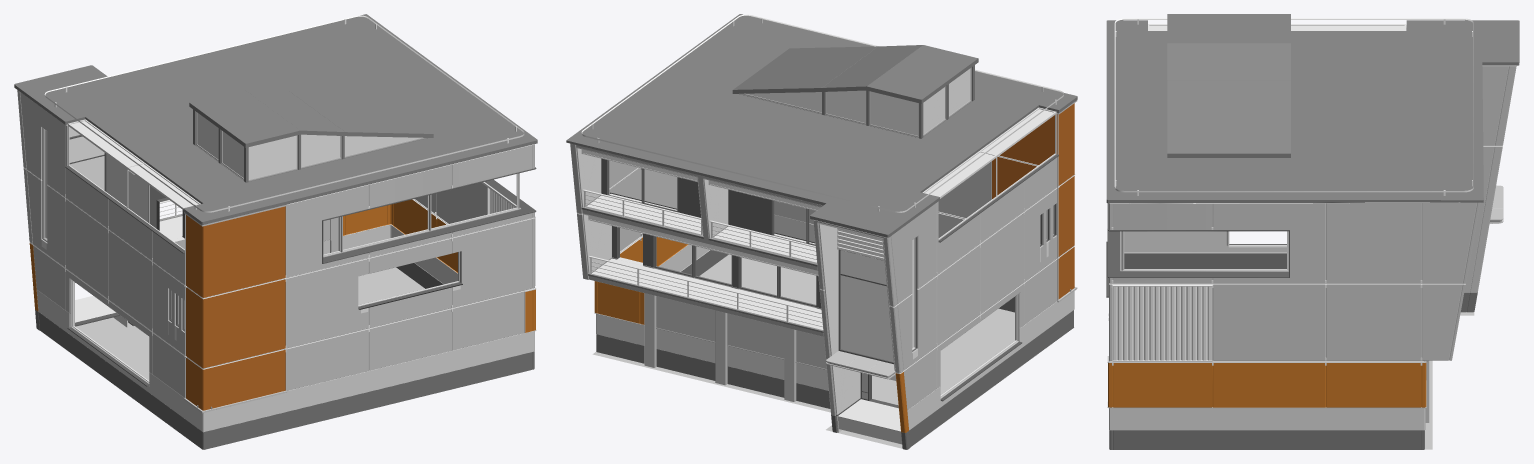
3 views of the same model, side by side, from view 1: azimuth 30°, elevation 25°; view 2: azimuth 150°, elevation 25°; view 3: azimuth 270°, elevation 25° (orthographic). The views are drawn at different scales.
Visible parts, largest first — view 1: SM_H_Building_FutureTech_Dormitory_02_ExterWall_01F; view 2: SM_H_Building_FutureTech_Dormitory_02_ExterWall_01F; view 3: SM_H_Building_FutureTech_Dormitory_02_ExterWall_01F.
Part boxes in pixels (left/top/right/bottom): SM_H_Building_FutureTech_Dormitory_02_ExterWall_01F: left=14, top=14, right=537, bottom=449; SM_H_Building_FutureTech_Dormitory_02_ExterWall_01F: left=566, top=14, right=1077, bottom=449; SM_H_Building_FutureTech_Dormitory_02_ExterWall_01F: left=1106, top=14, right=1519, bottom=449.
Size of the model in its own units: 728 by 750 by 575.
